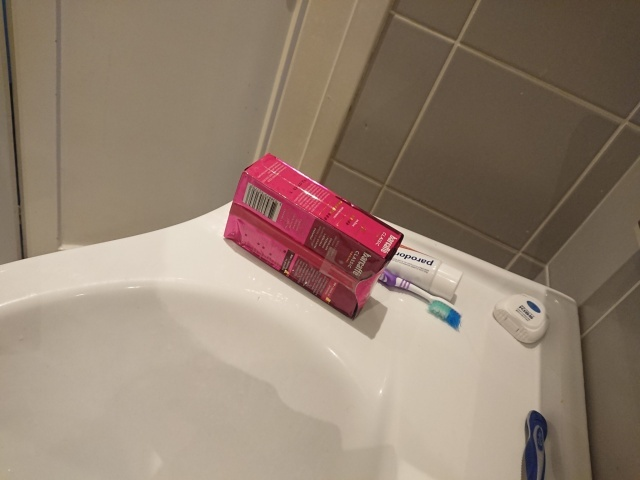Barcaffe Classic Original 225g: (221, 151, 407, 322)
